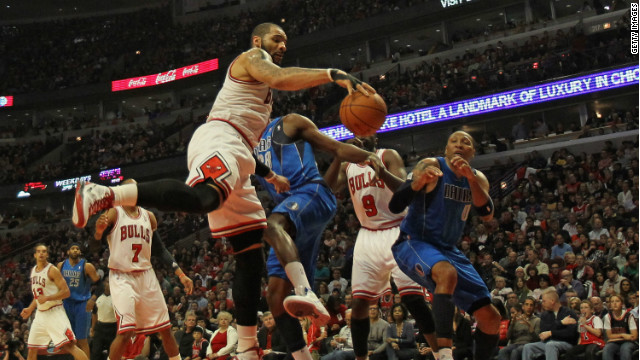basketball: (340, 89, 388, 134)
basketball player: (77, 22, 391, 354), (398, 130, 495, 360), (263, 115, 342, 359), (337, 138, 413, 357), (108, 176, 171, 360), (21, 247, 81, 360), (58, 245, 105, 358)
